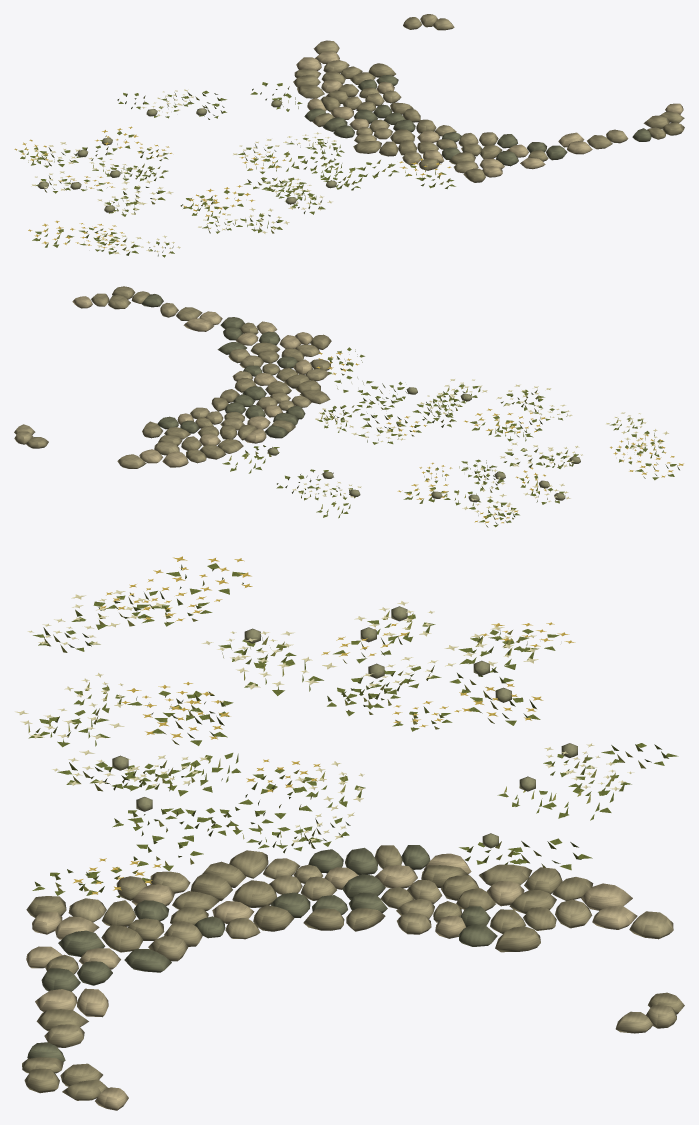
The model's file is detail-patch-04-02.fbx.
3 renders of one model, top to bottom at view 1: azimuth 30°, elevation 25°; view 2: azimuth 150°, elevation 25°; view 3: azimuth 270°, elevation 25°, orthographic. The views are drawn at different scales.
Parts seen in each view (by area): view 1: detail-patch-04-02__Geometry; view 2: detail-patch-04-02__Geometry; view 3: detail-patch-04-02__Geometry.
Boxes of the visible parts, bbox=[...] form: detail-patch-04-02__Geometry: bbox=[14, 14, 684, 257]; detail-patch-04-02__Geometry: bbox=[14, 286, 683, 527]; detail-patch-04-02__Geometry: bbox=[15, 556, 684, 1110].
Size of the model in its own units: 10.13 by 0.122 by 5.24.
Materials: 1 (1 with a texture image).
